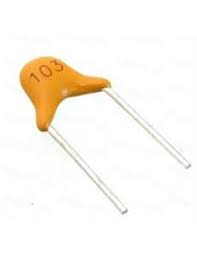ceramic capacitor: (7, 43, 121, 155)
